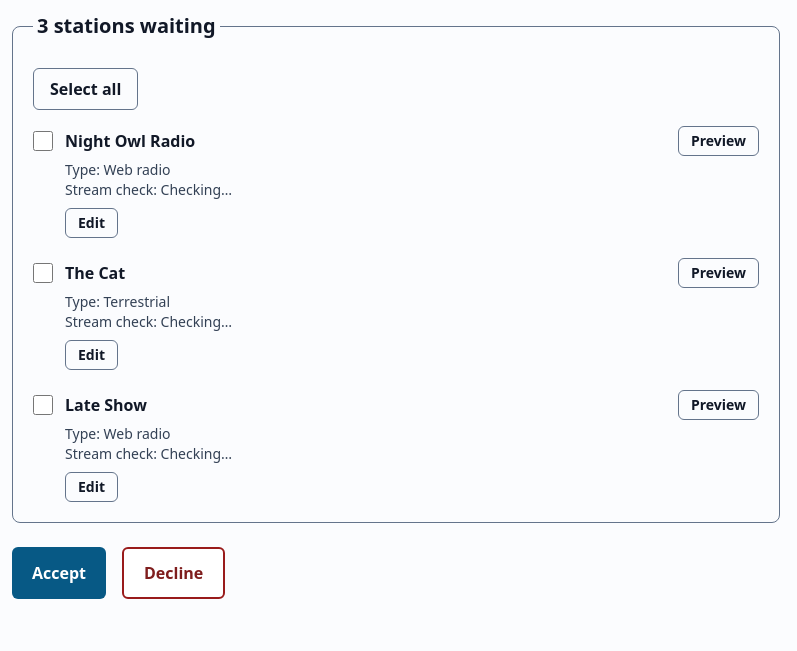
Test case: accepts the ticked stations and leaves the rest waiting
Expected: the heading "3 stations waiting" is shown, [37,12,216,40]
Click the button "Accept". click: (59, 573)
box: [12,547,106,599]
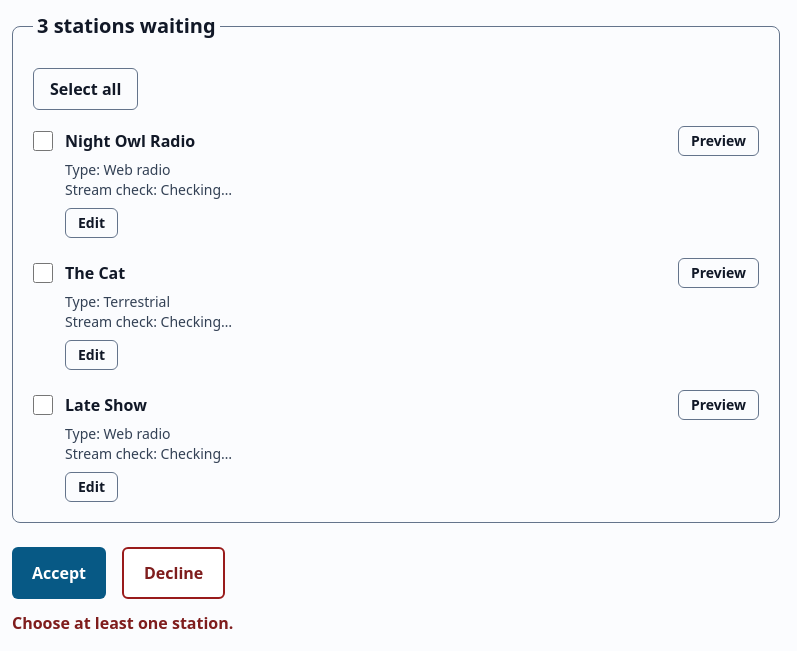
Result: the message reads "Choose at least one station." at [12,612,233,634]
Click the checkbox labelled "Night Owl Radio". click: (43, 141)
box: [33,131,53,151]
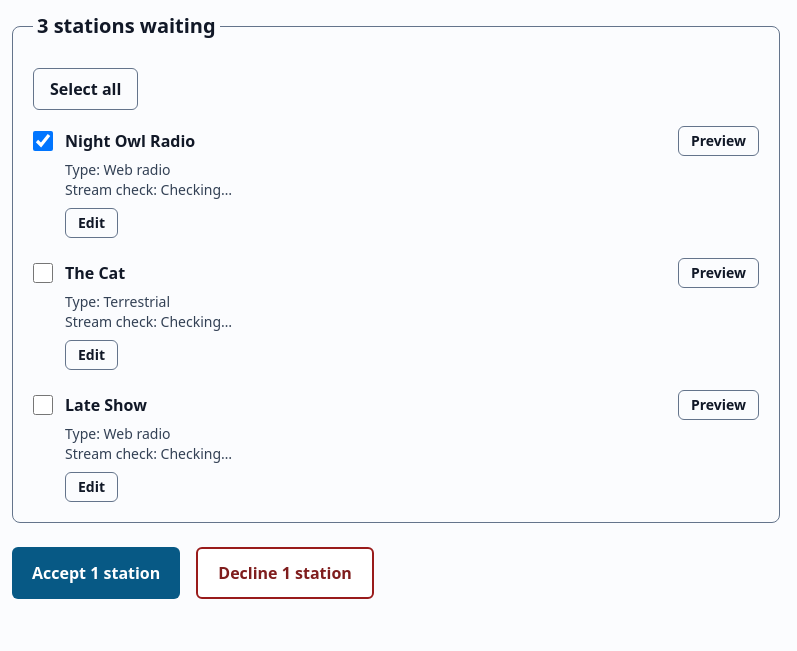
Click the checkbox labelled "Late Show". click: (43, 405)
box: [33,395,53,415]
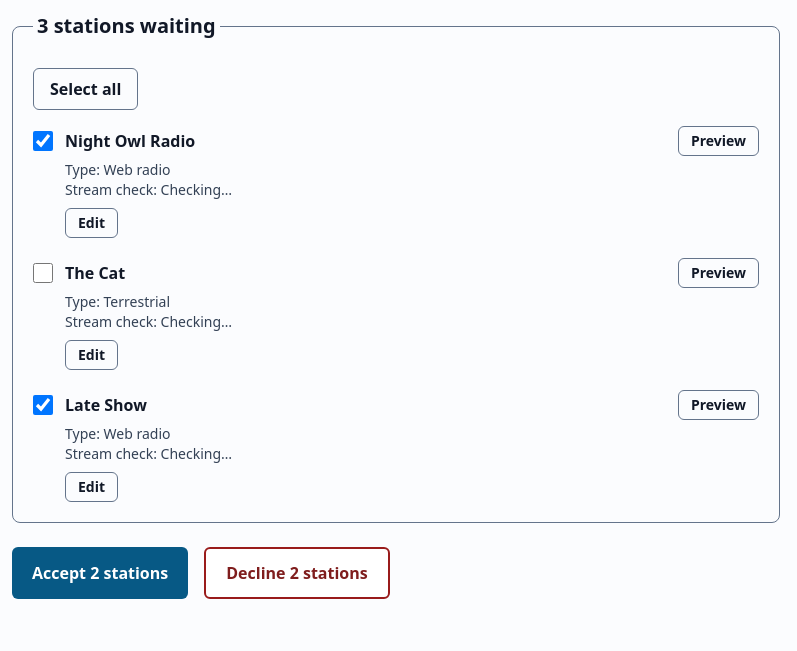
Click the button "Accept 2 stations". click: (100, 573)
box: [12,547,188,599]
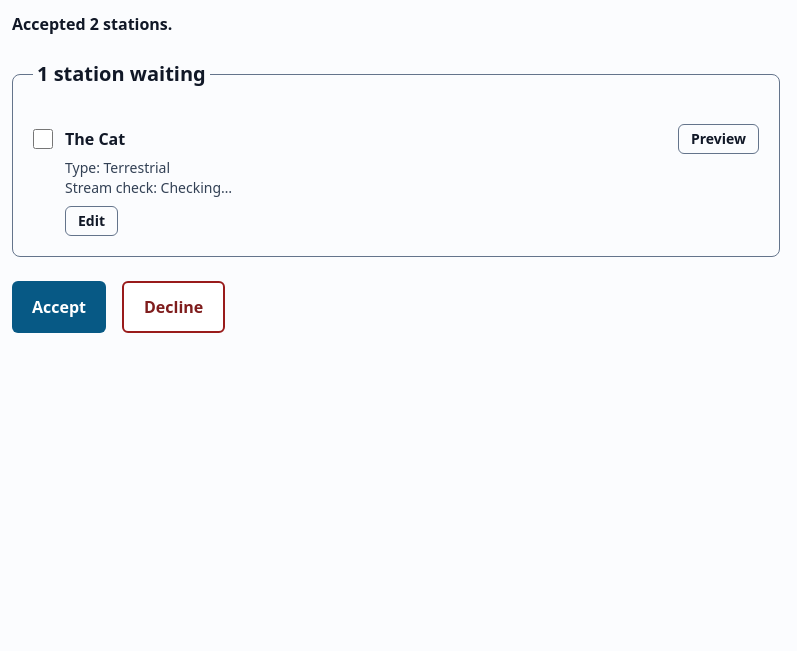
Expected: the checkbox labelled "The Cat" is not checked, [33,129,53,149]
Result: the text "Accepted 2 stations." is shown at [12,13,172,35]
Result: the heading "1 station waiting" is shown at [37,60,206,88]
